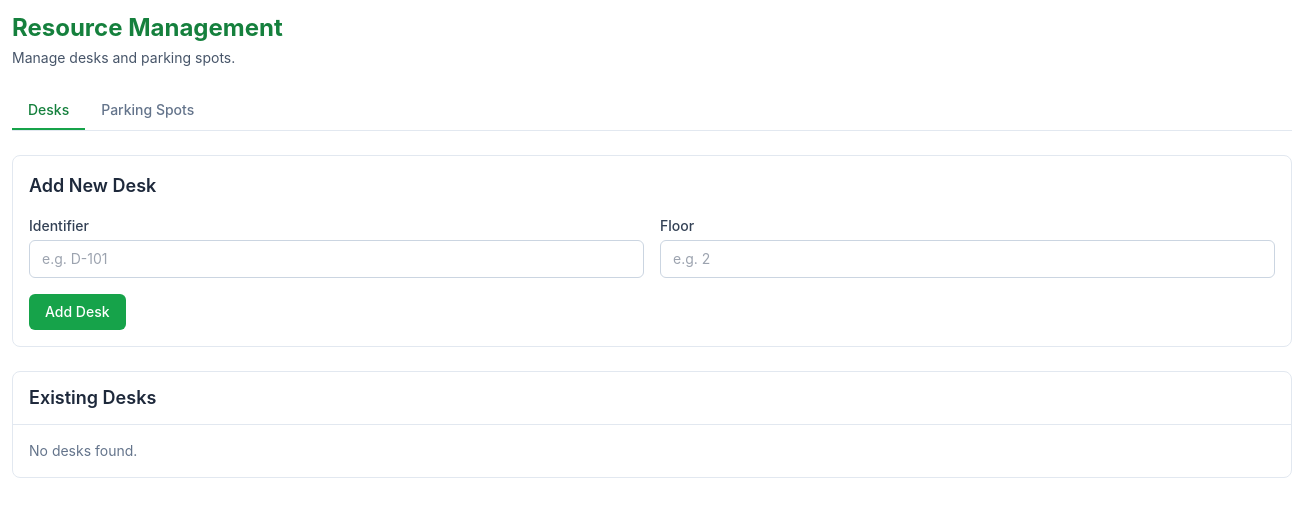
Test: ResourceManagementPage › Desk form validation › shows error when floor is empty on submit
The width and height of the screenshot is (1292, 515).
Type "D-101" into the field labelled "Identifier" at (336,259), box [29,240,644,278]
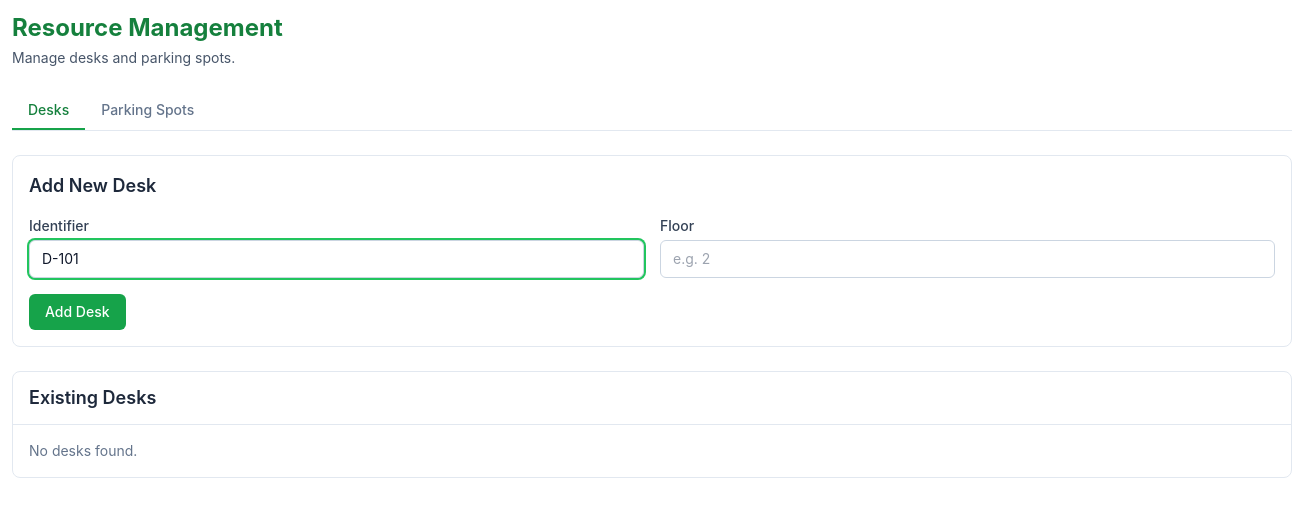
Click the button "Add Desk" at (77,312), box [29,294,126,330]
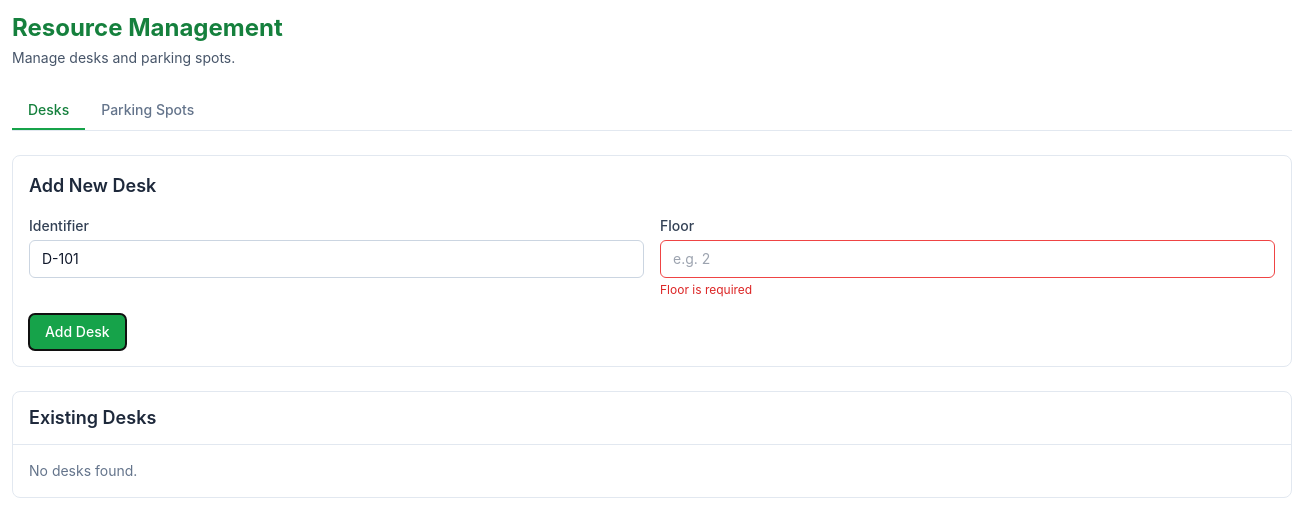
Check: the text "Floor is required" is shown, box [660,282,752,297]
